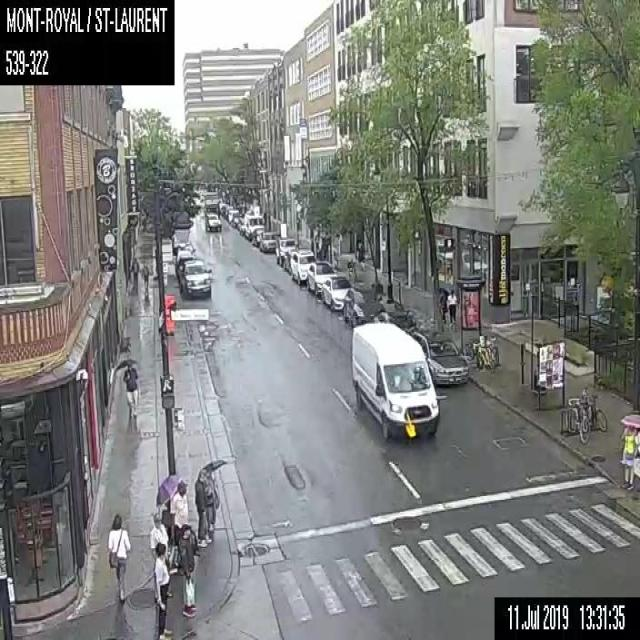construction: (164, 294, 174, 334)
pedestrian: (106, 511, 132, 605), (178, 522, 202, 617), (152, 542, 174, 638), (204, 454, 228, 537), (160, 470, 190, 535), (121, 357, 139, 439), (191, 466, 208, 546), (618, 412, 635, 491), (147, 509, 170, 544), (435, 284, 449, 324), (448, 286, 458, 331), (131, 255, 138, 288), (141, 264, 147, 297)
vehicle: (348, 317, 438, 440), (428, 332, 467, 388), (342, 282, 382, 328), (178, 254, 211, 300), (320, 275, 350, 311), (306, 260, 334, 294), (241, 201, 264, 240), (290, 248, 312, 283), (275, 237, 296, 266), (202, 211, 223, 231), (260, 230, 276, 252)
